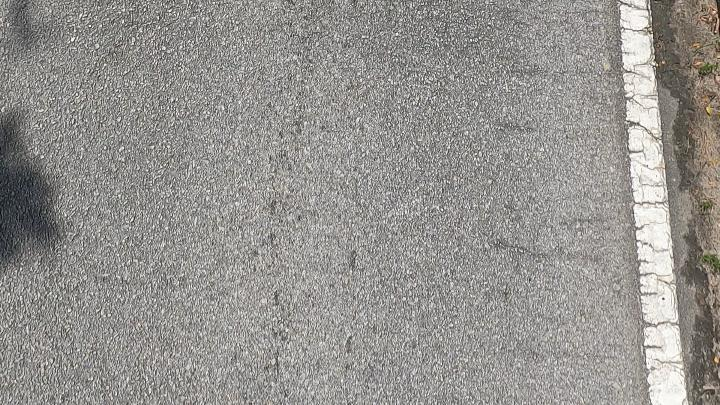Lane: (618, 0, 690, 405), (619, 0, 687, 404)
